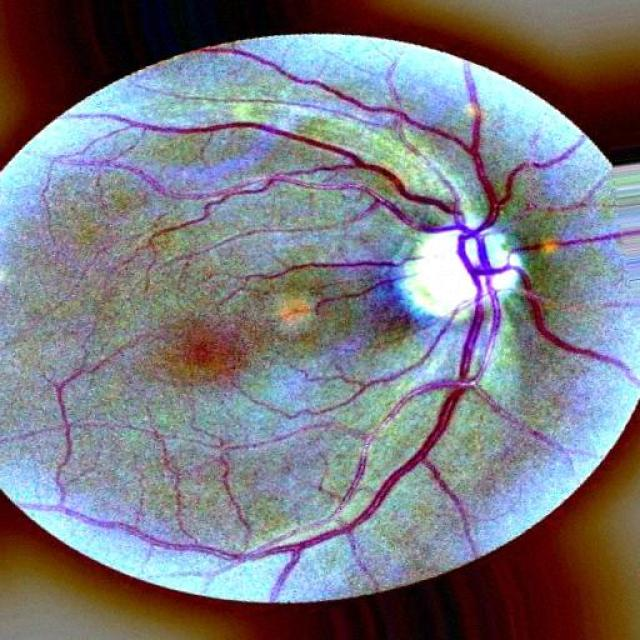Macula: (162, 296, 247, 382)
Nerves: (49, 74, 629, 575)
Optic Disk: (382, 196, 553, 350)
